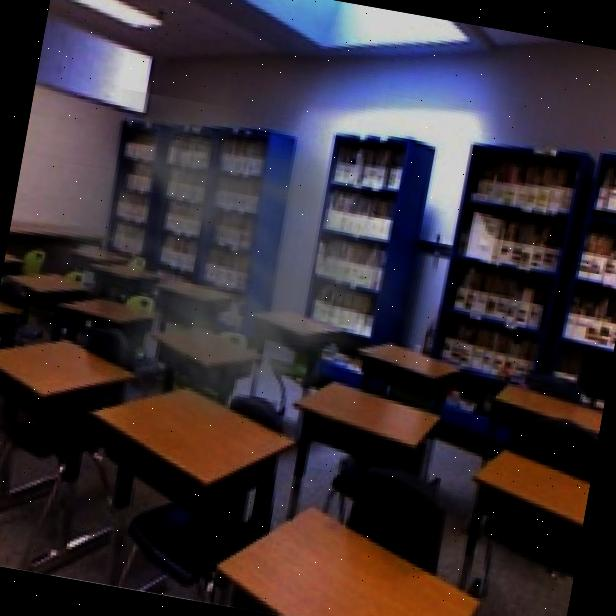smoke: (0, 76, 455, 491)
